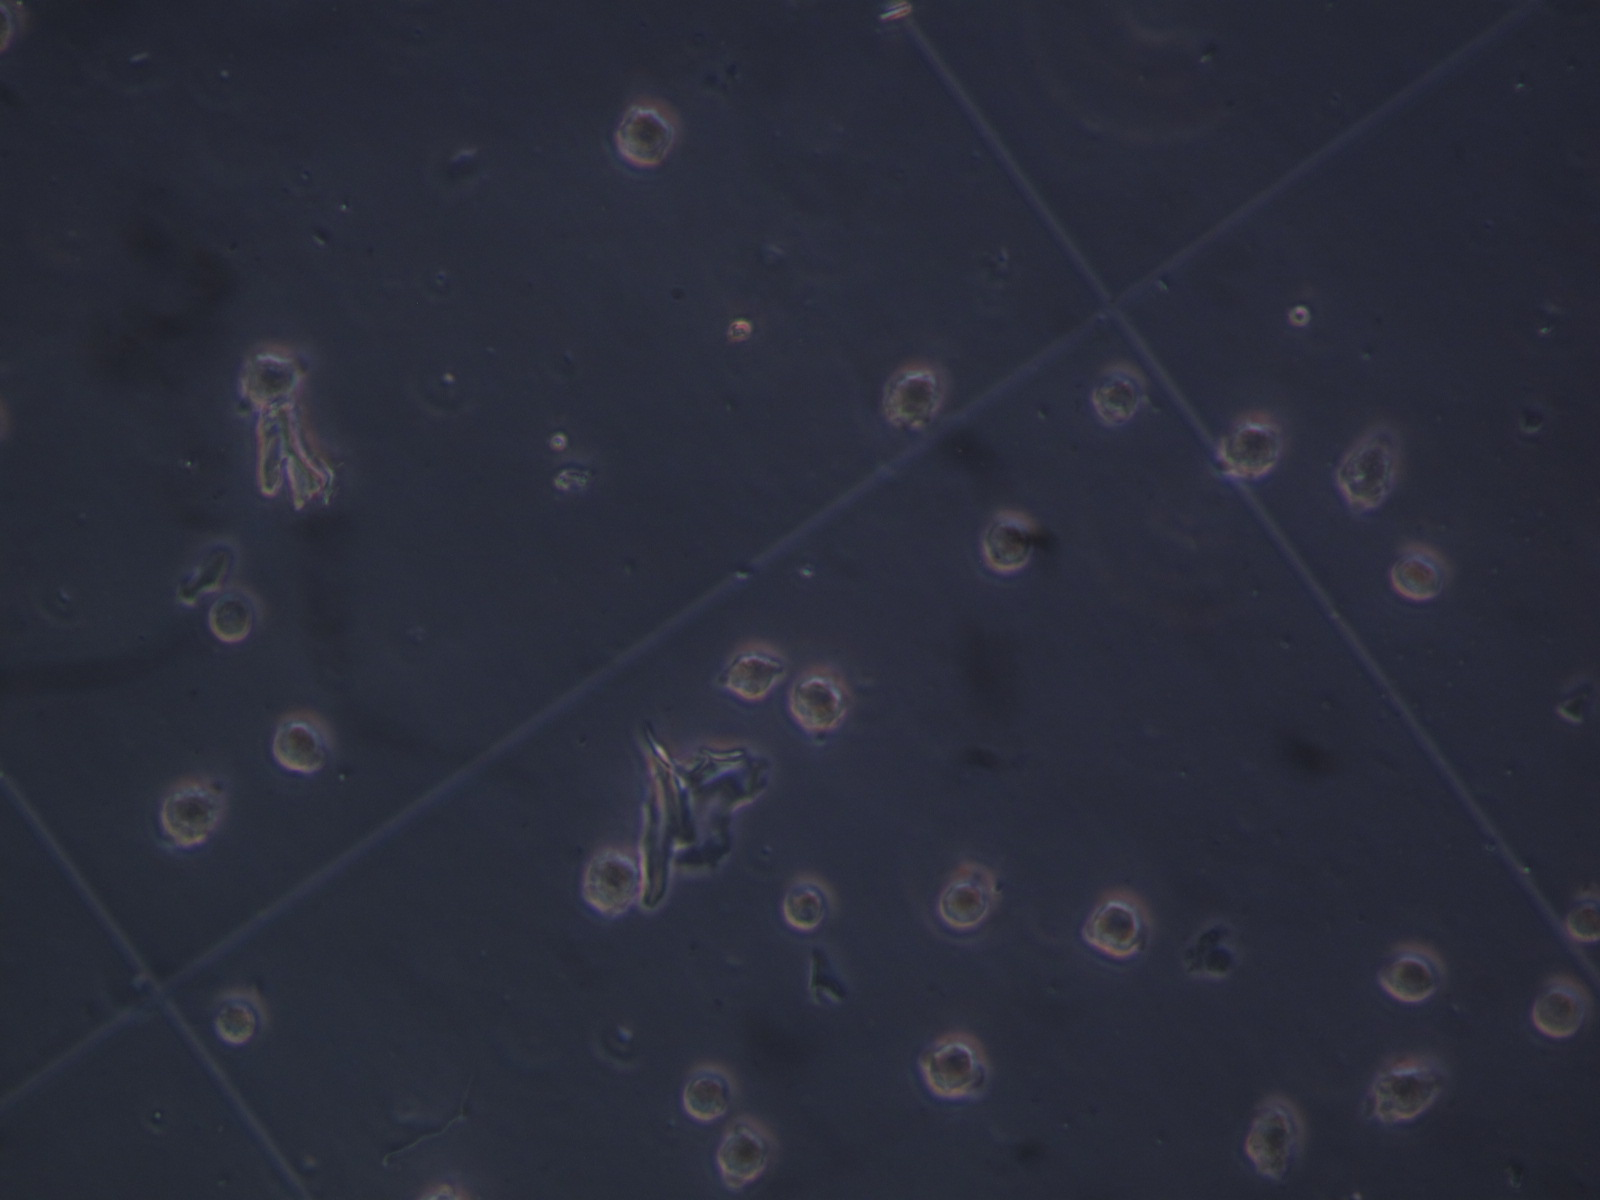hemo: (1243, 1093, 1306, 1179), (1082, 886, 1151, 961), (615, 95, 683, 168), (157, 773, 223, 848), (921, 1031, 988, 1102), (717, 1116, 781, 1185), (1378, 940, 1446, 1005), (1531, 972, 1594, 1040), (979, 508, 1042, 574), (582, 845, 641, 914), (879, 363, 944, 426), (722, 638, 786, 700), (1374, 1063, 1443, 1121), (271, 707, 329, 774), (1339, 440, 1393, 511), (1216, 421, 1283, 478), (1385, 542, 1451, 599), (790, 669, 849, 731), (210, 984, 268, 1046), (1094, 358, 1146, 424), (208, 584, 267, 642), (239, 350, 301, 406), (685, 1061, 740, 1122), (784, 872, 837, 930), (940, 879, 991, 930), (1565, 897, 1600, 945)
